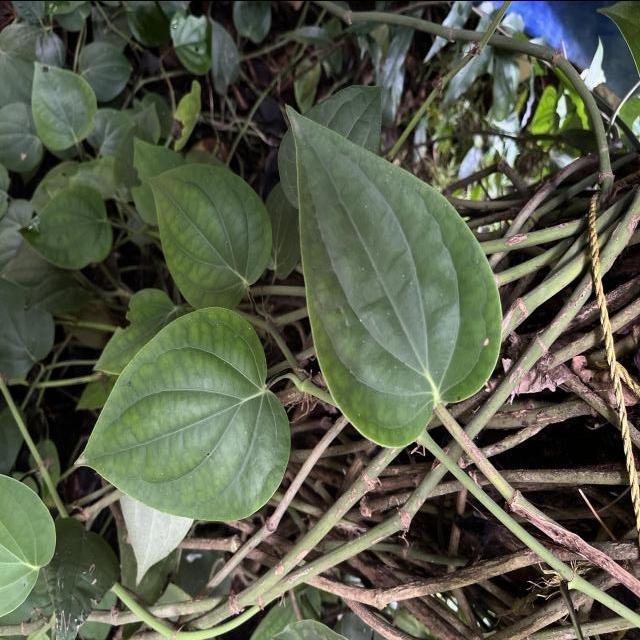Piper nigrum: (282, 100, 506, 452), (70, 304, 294, 522), (145, 160, 275, 312)
